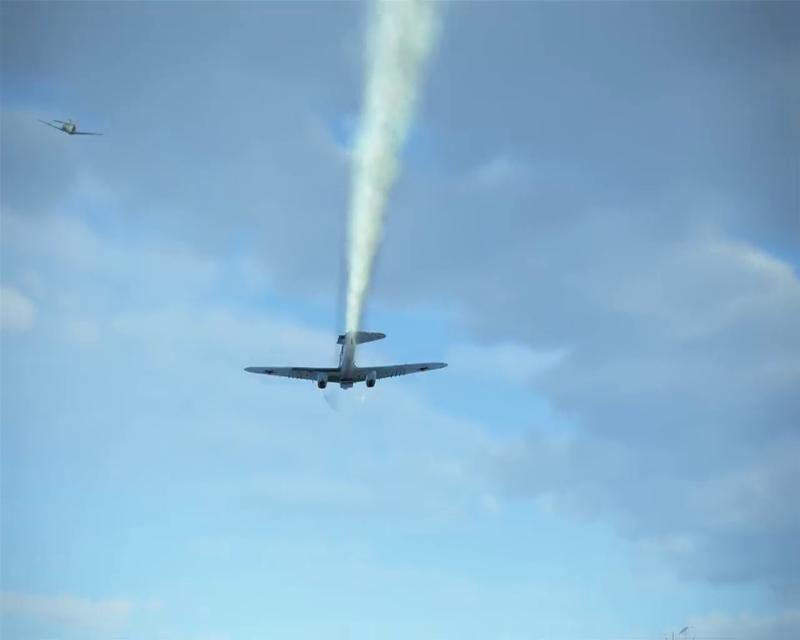UAV: (243, 330, 447, 392), (37, 117, 102, 137)
